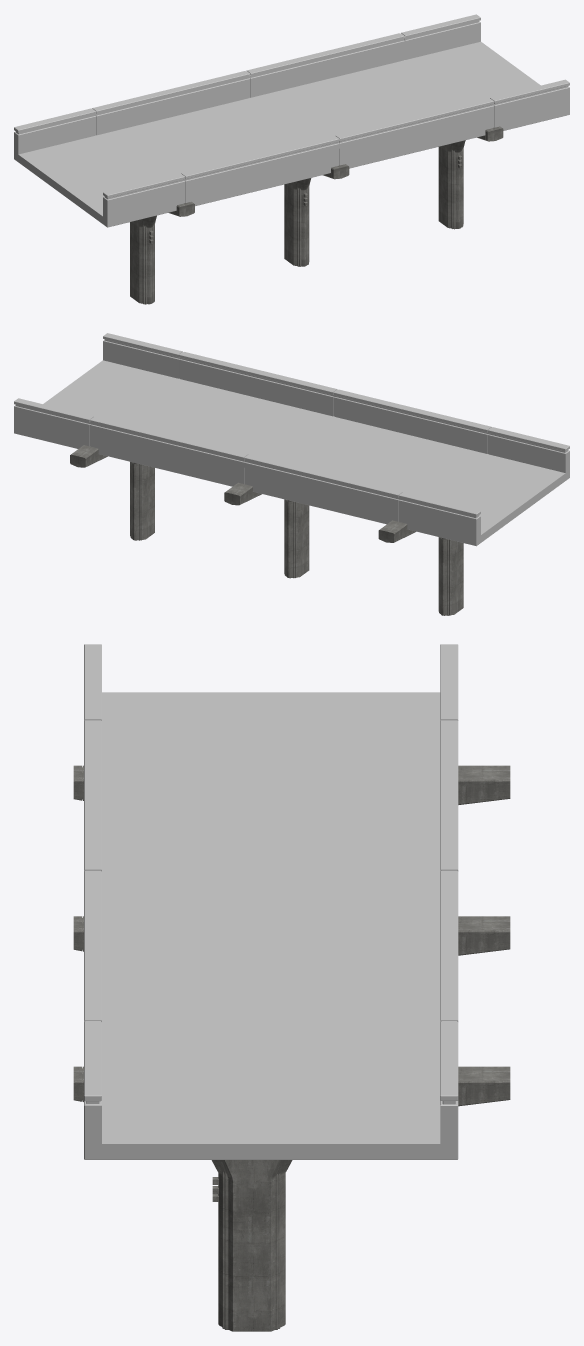
The model's file is Kitbash3D_Brutalist_Road02.fbx.
3 renders of one model, top to bottom at view 1: azimuth 30°, elevation 25°; view 2: azimuth 150°, elevation 25°; view 3: azimuth 270°, elevation 25°, orthographic. The views are drawn at different scales.
Visible parts, largest first — view 1: Plaza_Walk_Way_Walk_Way_Floor, Plaza_Walk_Way_StoneFloor, Plaza_Walk_Way_Walk_Way_Supports, Plaza_Walk_Way_ConcFormHoles; view 2: Plaza_Walk_Way_Walk_Way_Floor, Plaza_Walk_Way_StoneFloor, Plaza_Walk_Way_Walk_Way_Supports, Plaza_Walk_Way_ConcFormHoles; view 3: Plaza_Walk_Way_StoneFloor, Plaza_Walk_Way_Walk_Way_Floor, Plaza_Walk_Way_Walk_Way_Supports, Plaza_Walk_Way_ConcFormHoles.
Boxes of the visible parts, bbox=[...] form: Plaza_Walk_Way_Walk_Way_Floor: bbox=[14, 14, 569, 227]; Plaza_Walk_Way_StoneFloor: bbox=[34, 43, 532, 200]; Plaza_Walk_Way_Walk_Way_Supports: bbox=[130, 126, 503, 304]; Plaza_Walk_Way_ConcFormHoles: bbox=[18, 41, 540, 216]; Plaza_Walk_Way_Walk_Way_Floor: bbox=[14, 333, 569, 546]; Plaza_Walk_Way_StoneFloor: bbox=[51, 362, 549, 519]; Plaza_Walk_Way_Walk_Way_Supports: bbox=[70, 445, 463, 615]; Plaza_Walk_Way_ConcFormHoles: bbox=[43, 360, 565, 534]; Plaza_Walk_Way_StoneFloor: bbox=[102, 707, 440, 1136]; Plaza_Walk_Way_Walk_Way_Floor: bbox=[84, 644, 458, 1159]; Plaza_Walk_Way_Walk_Way_Supports: bbox=[73, 765, 510, 1331]; Plaza_Walk_Way_ConcFormHoles: bbox=[102, 692, 440, 1143].
Bounding box in the file's own units: 13 × 4.09 × 5.31.
